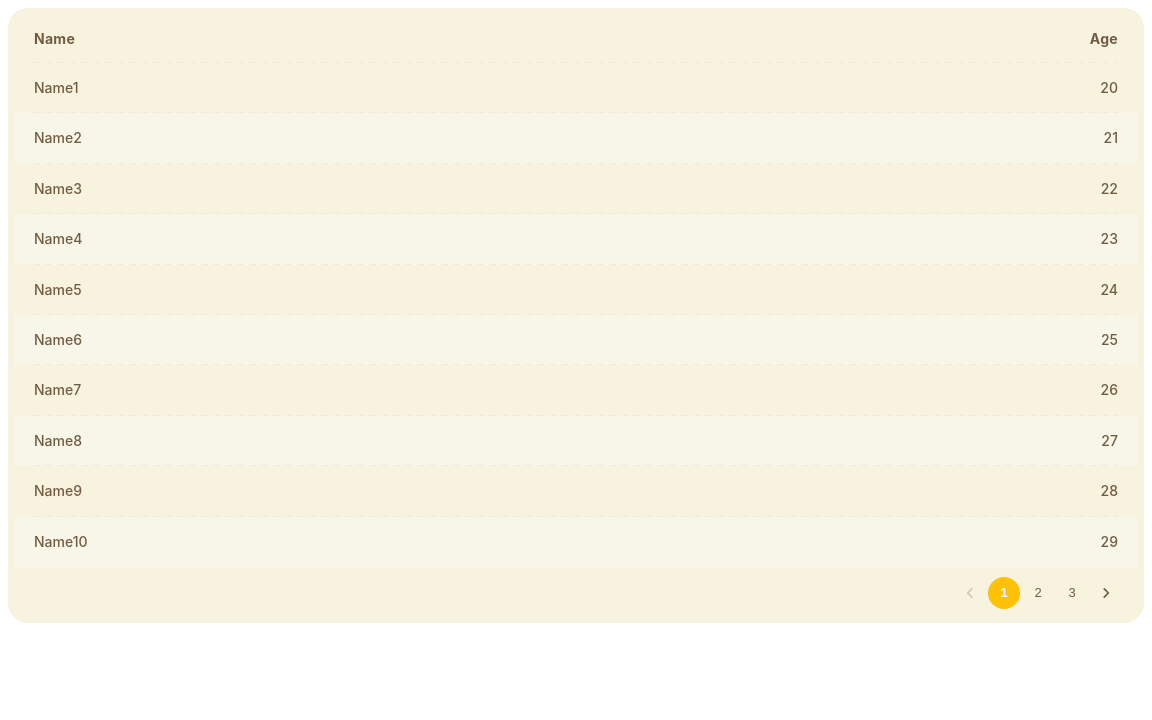
Scenario: Table › 点击页码切换分页数据
The width and height of the screenshot is (1152, 720).
Click the button "2" at (1038, 593), box [1022,577,1054,609]
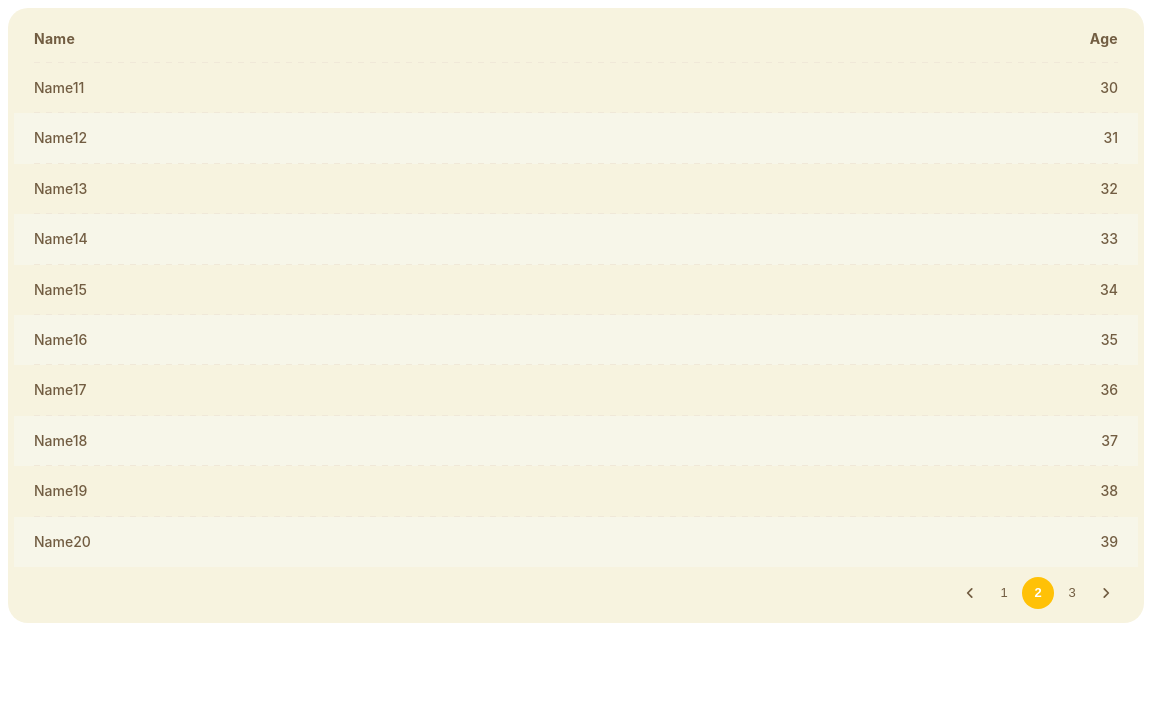
expect the text "Name11" is shown: met, box [14,63,674,113]
